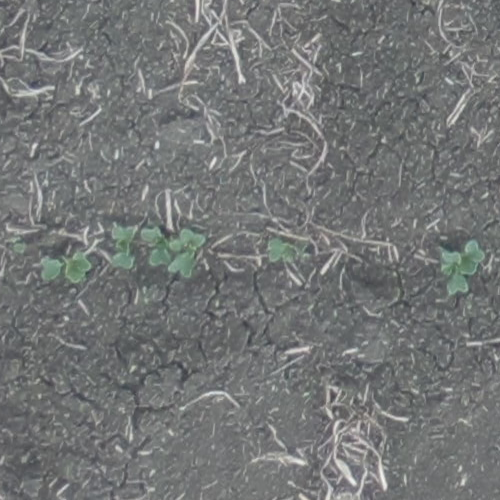clumped: (144, 227, 204, 277)
isolated: (443, 242, 481, 295), (109, 226, 144, 269), (267, 238, 308, 267)
